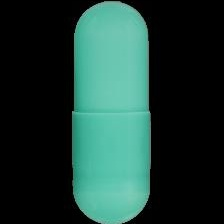51672-4001: (0, 0, 224, 224)
